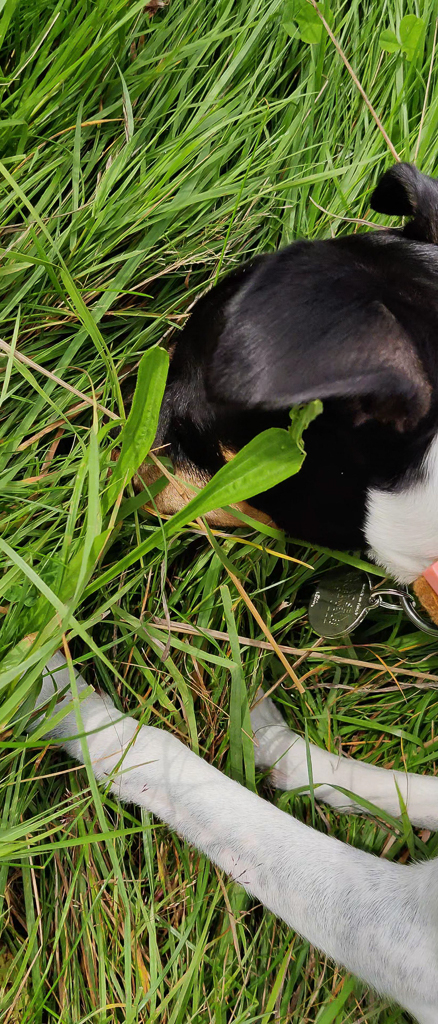Dog: (23, 144, 438, 1024)
